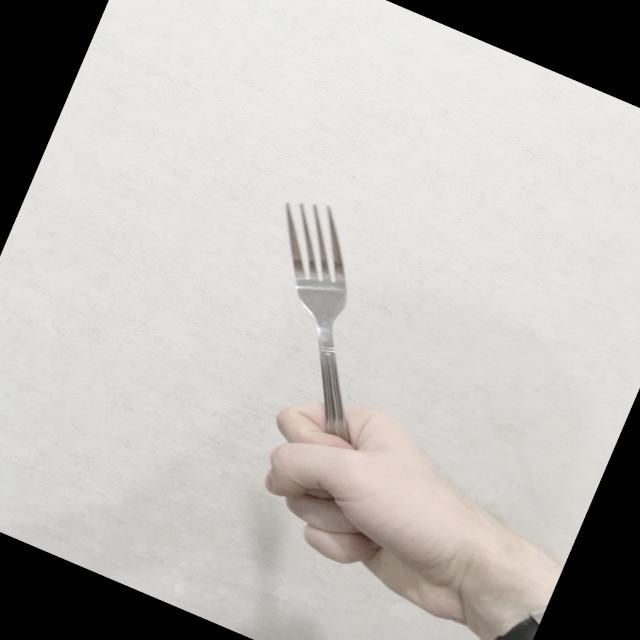fork: (191, 188, 438, 484)
